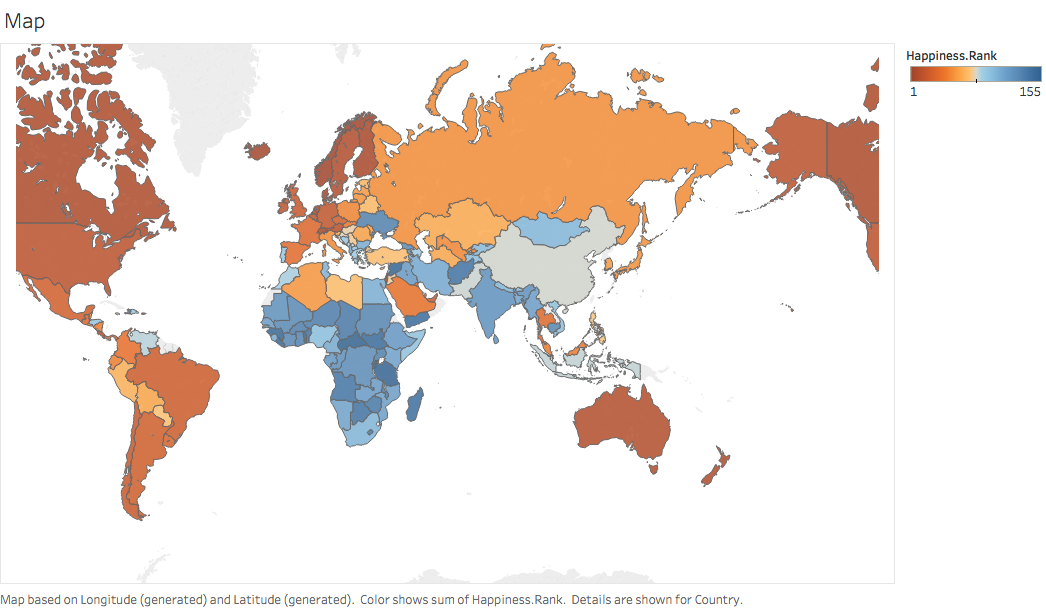

Layout of this report page (visuals, bound fields, positions):
{"tool":"tableau","page":{"name":"Dashboard 1","canvas":[1000,800],"ordinal":0},"visuals":[{"type":"worksheet","title":"Map","mark":"Automatic","box":[8,8,824,784]},{"type":"legend","title":"Map","param":"[federated.17bll0y18avzr611blwoq1lb9747].[sum:Happiness.Rank:qk]","box":[832,8,160,65]}]}

Visuals, with their boxes on the page's 1000x800 design canvas (x1, y1, x2, y2). These are canvas units, not pixel positions in the 1046x609 screenshot, which may show the page scaled, cropped or inside an application window:
"Map" worksheet: box=[8, 8, 832, 792]
"Map" legend: box=[832, 8, 992, 73]
